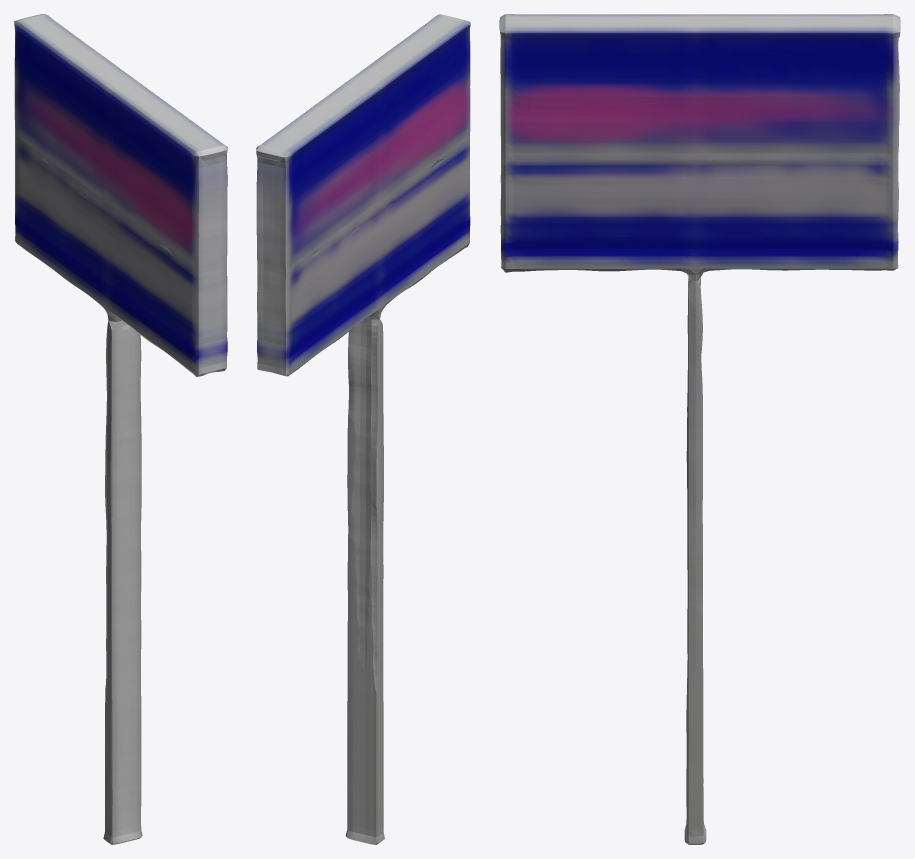
3 views of the same model, side by side, from view 1: azimuth 30°, elevation 25°; view 2: azimuth 150°, elevation 25°; view 3: azimuth 270°, elevation 25° (orthographic). The views are drawn at different scales.
Visible parts, largest first — view 1: tmp9pzjqxo_.ply; view 2: tmp9pzjqxo_.ply; view 3: tmp9pzjqxo_.ply.
Part boxes in pixels (x1,y1,x2,y2): tmp9pzjqxo_.ply: (14,14,227,844); tmp9pzjqxo_.ply: (256,14,470,844); tmp9pzjqxo_.ply: (499,14,900,844).
Bounding box in the file's own units: 0.0946 × 1.98 × 0.8839.
